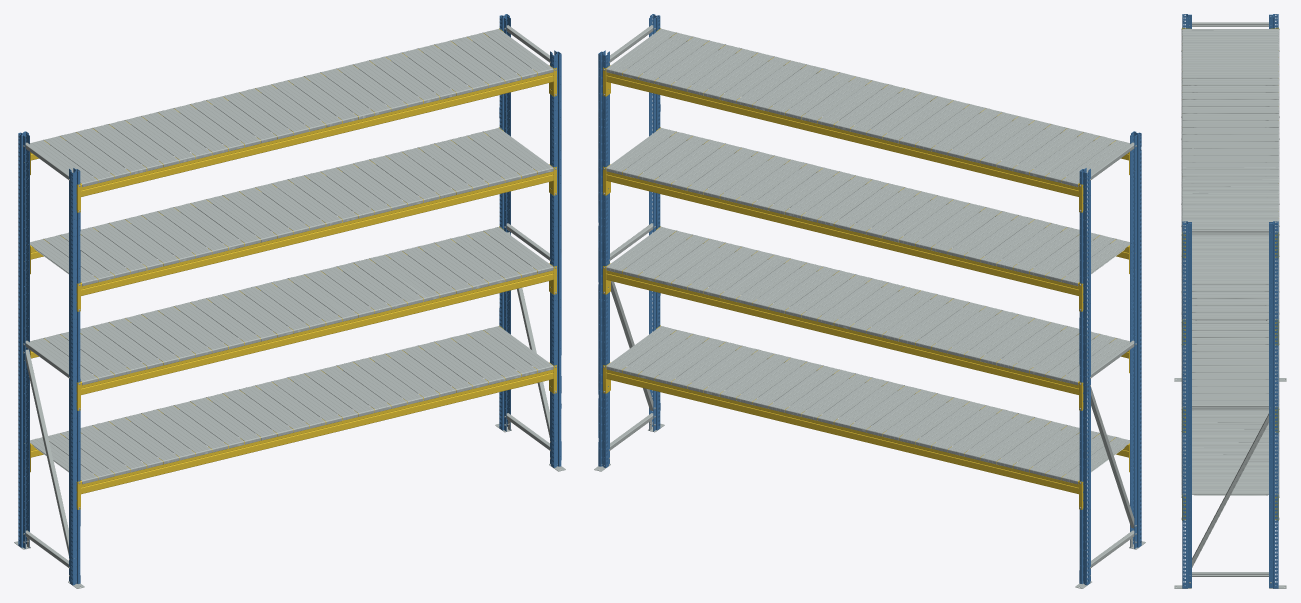
File: rack_l16.glb
3 views of the same model, side by side, from view 1: azimuth 30°, elevation 25°; view 2: azimuth 150°, elevation 25°; view 3: azimuth 270°, elevation 25° (orthographic). The views are drawn at different scales.
Bounding box in the file's own units: 3.1 × 2.5 × 0.7.
